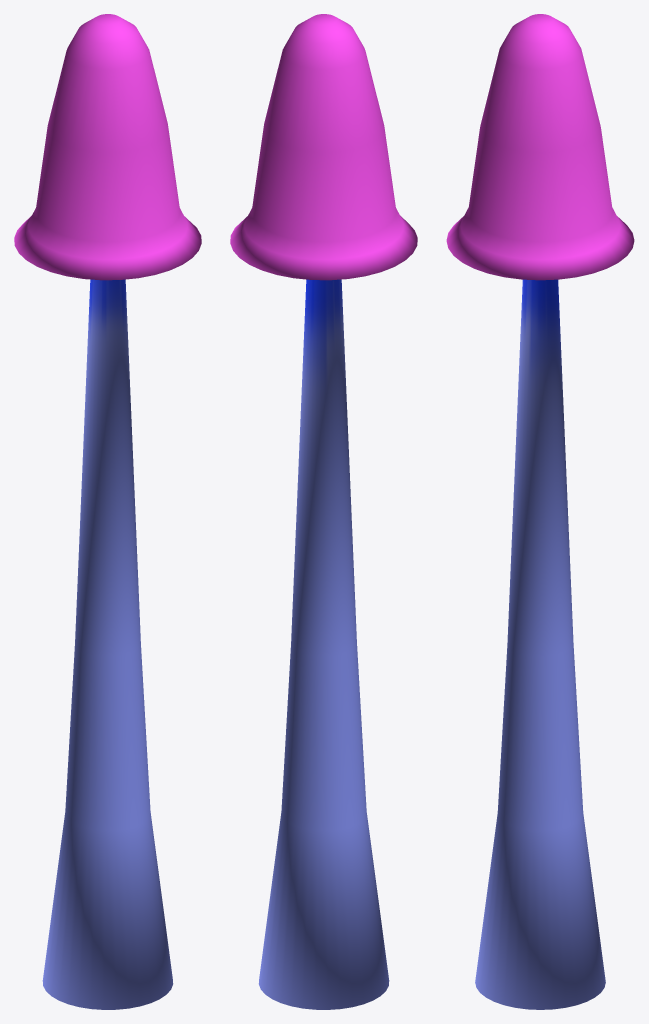
The model's file is Thin Mushy 2.fbx.
The picture shows the model from 3 angles, left to right: view 1: azimuth 30°, elevation 25°; view 2: azimuth 150°, elevation 25°; view 3: azimuth 270°, elevation 25°; orthographic projection.
Visible parts, largest first — view 1: Thin Mushy; view 2: Thin Mushy; view 3: Thin Mushy.
Part boxes in pixels (left/top/right/bottom): Thin Mushy: left=14, top=14, right=201, bottom=1009; Thin Mushy: left=230, top=14, right=417, bottom=1009; Thin Mushy: left=446, top=14, right=634, bottom=1009.
Bounding box in the file's own units: 0.9744 × 5.5 × 0.9744.
